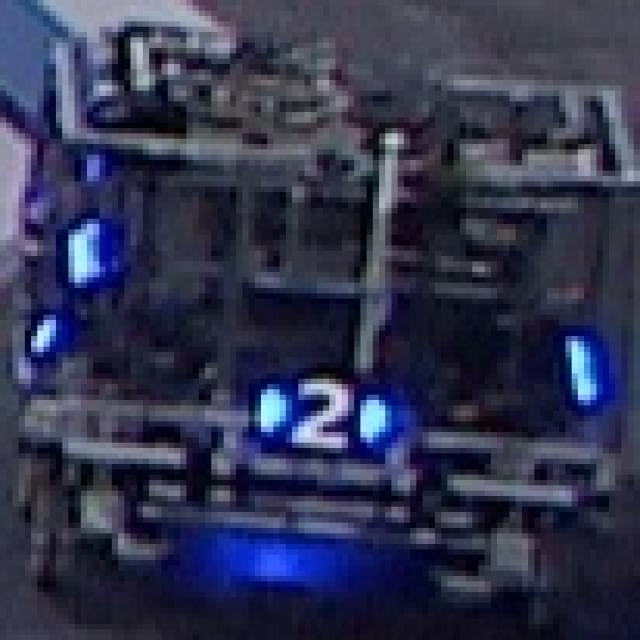B2: (255, 368, 391, 448)
